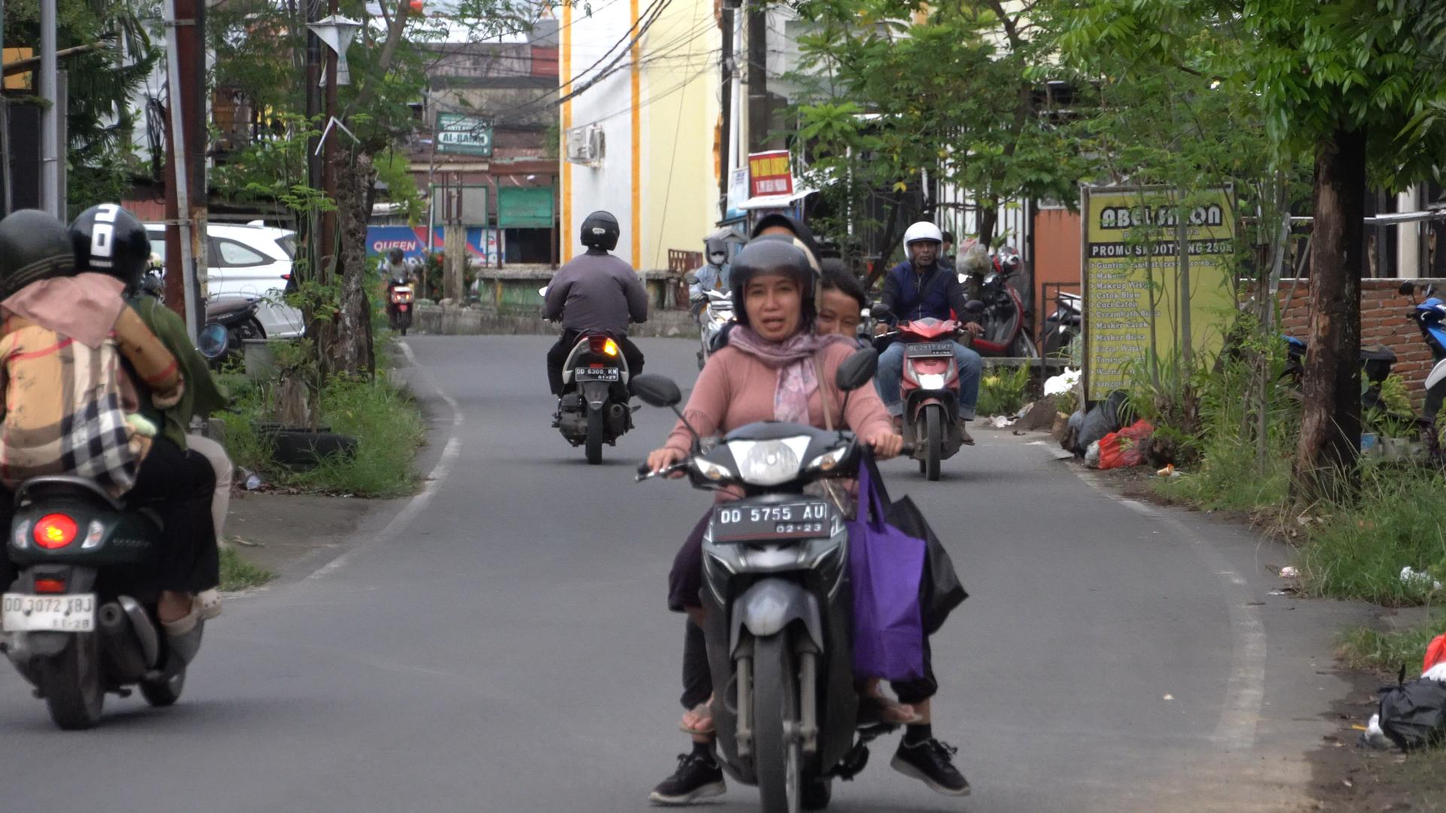number-plate: (709, 503, 840, 539)
